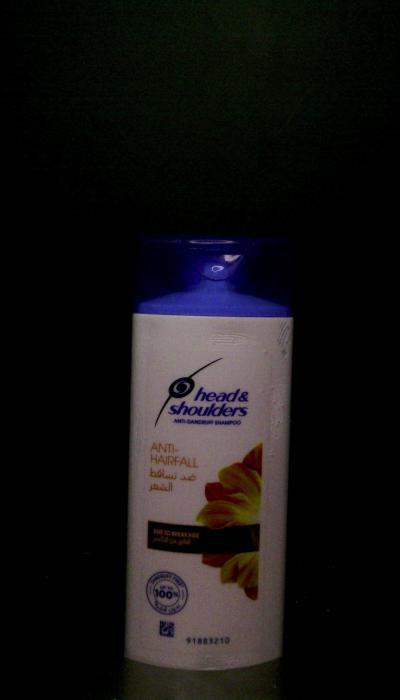scuff_marg: (258, 379, 284, 460), (202, 326, 261, 354), (126, 422, 150, 469), (185, 650, 245, 668), (276, 316, 294, 366)
